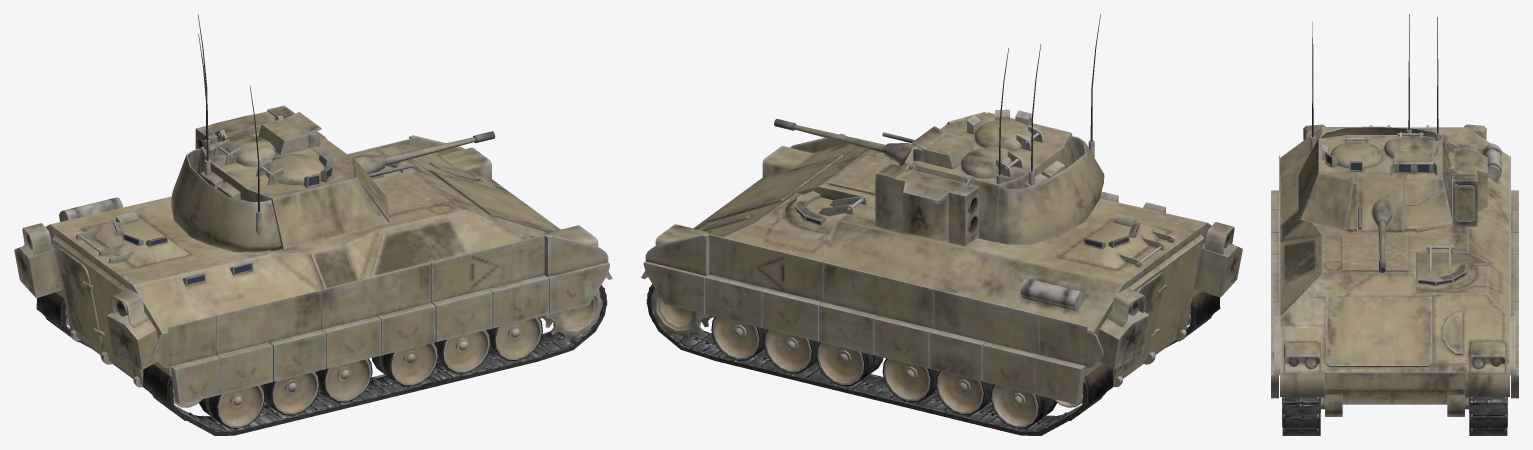
The model's file is asv.glb.
The picture shows the model from 3 angles, left to right: view 1: azimuth 30°, elevation 25°; view 2: azimuth 150°, elevation 25°; view 3: azimuth 270°, elevation 25°; orthographic projection. The views are drawn at different scales.
Visible parts, largest first — view 1: Bredley_Hull, Bredley_HullArmor, Bredley_Tower, Cube.004, Bredley_CaterpillarR, Bredley_RollersR3, Bredley_RollersR6, Bredley_MainGun, Bredley_RollersR5, Bredley_RollersR4, Bredley_RollersR2, Bredley_RollersR1 (+2 smaller); view 2: Bredley_Hull, Bredley_HullArmor, Bredley_Tower, Bredley_Rocket, Bredley_CaterpillarAnimL, Bredley_CaterpillarL, Bredley_RollersL3, Bredley_RollersL6, Bredley_RollersL5, Bredley_RollersL4, Bredley_RollersL2, Bredley_RollersL1 (+2 smaller); view 3: Bredley_Hull, Bredley_Tower, Bredley_HullArmor, Bredley_MainGun, Bredley_Rocket, Bredley_CaterpillarL, Bredley_CaterpillarR, Bredley_RocketHatch, Cube.004, Bredley_CaterpillarAnimL.
Part boxes in pixels (x1=…): Bredley_Hull: x1=14, y1=145, x2=612, y2=404; Bredley_HullArmor: x1=152, y1=135, x2=609, y2=404; Bredley_Tower: x1=171, y1=14, x2=389, y2=252; Cube.004: x1=153, y1=287, x2=607, y2=431; Bredley_CaterpillarR: x1=149, y1=285, x2=606, y2=435; Bredley_RollersR3: x1=372, y1=342, x2=438, y2=386; Bredley_RollersR6: x1=199, y1=385, x2=265, y2=428; Bredley_MainGun: x1=311, y1=131, x2=495, y2=177; Bredley_RollersR5: x1=262, y1=371, x2=319, y2=415; Bredley_RollersR4: x1=316, y1=358, x2=372, y2=402; Bredley_RollersR2: x1=435, y1=330, x2=490, y2=373; Bredley_RollersR1: x1=487, y1=317, x2=542, y2=361; Bredley_Hull: x1=641, y1=143, x2=1242, y2=404; Bredley_HullArmor: x1=643, y1=133, x2=1103, y2=404; Bredley_Tower: x1=899, y1=14, x2=1104, y2=244; Bredley_Rocket: x1=875, y1=160, x2=978, y2=246; Bredley_CaterpillarAnimL: x1=646, y1=274, x2=1102, y2=431; Bredley_CaterpillarL: x1=647, y1=284, x2=1106, y2=435; Bredley_RollersL3: x1=816, y1=342, x2=883, y2=386; Bredley_RollersL6: x1=990, y1=384, x2=1057, y2=428; Bredley_RollersL5: x1=935, y1=371, x2=993, y2=415; Bredley_RollersL4: x1=882, y1=358, x2=939, y2=402; Bredley_RollersL2: x1=763, y1=329, x2=819, y2=373; Bredley_RollersL1: x1=711, y1=316, x2=766, y2=360; Bredley_Hull: x1=1280, y1=124, x2=1509, y2=416; Bredley_Tower: x1=1298, y1=14, x2=1454, y2=233; Bredley_HullArmor: x1=1271, y1=155, x2=1518, y2=398; Bredley_MainGun: x1=1357, y1=173, x2=1404, y2=272; Bredley_Rocket: x1=1447, y1=142, x2=1487, y2=226; Bredley_CaterpillarL: x1=1469, y1=396, x2=1507, y2=435; Bredley_CaterpillarR: x1=1282, y1=396, x2=1320, y2=435; Bredley_RocketHatch: x1=1453, y1=184, x2=1475, y2=221; Cube.004: x1=1283, y1=398, x2=1318, y2=434; Bredley_CaterpillarAnimL: x1=1470, y1=399, x2=1506, y2=434.
Bounding box in the file's own units: 6.19 × 4.24 × 3.18.
2 materials, 2 textured.
